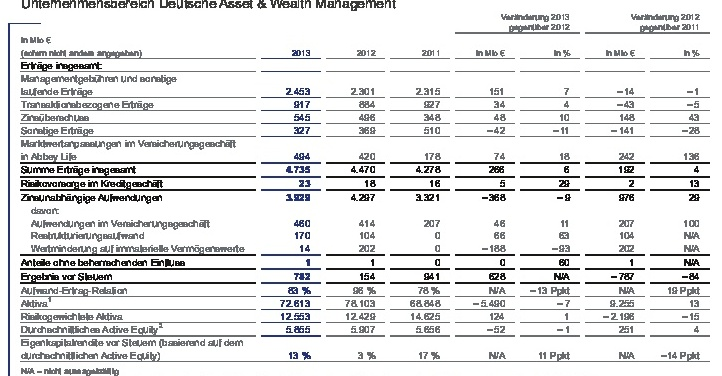table: (0, 0, 722, 376)
